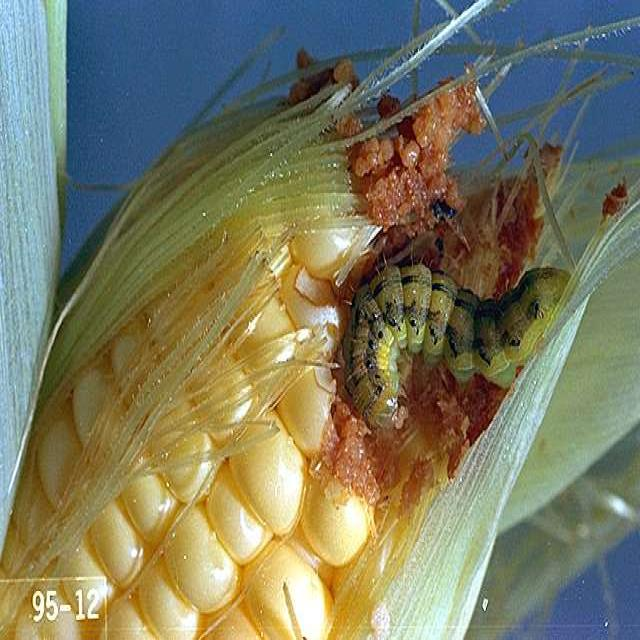Corn-earworm: (343, 247, 570, 445)
